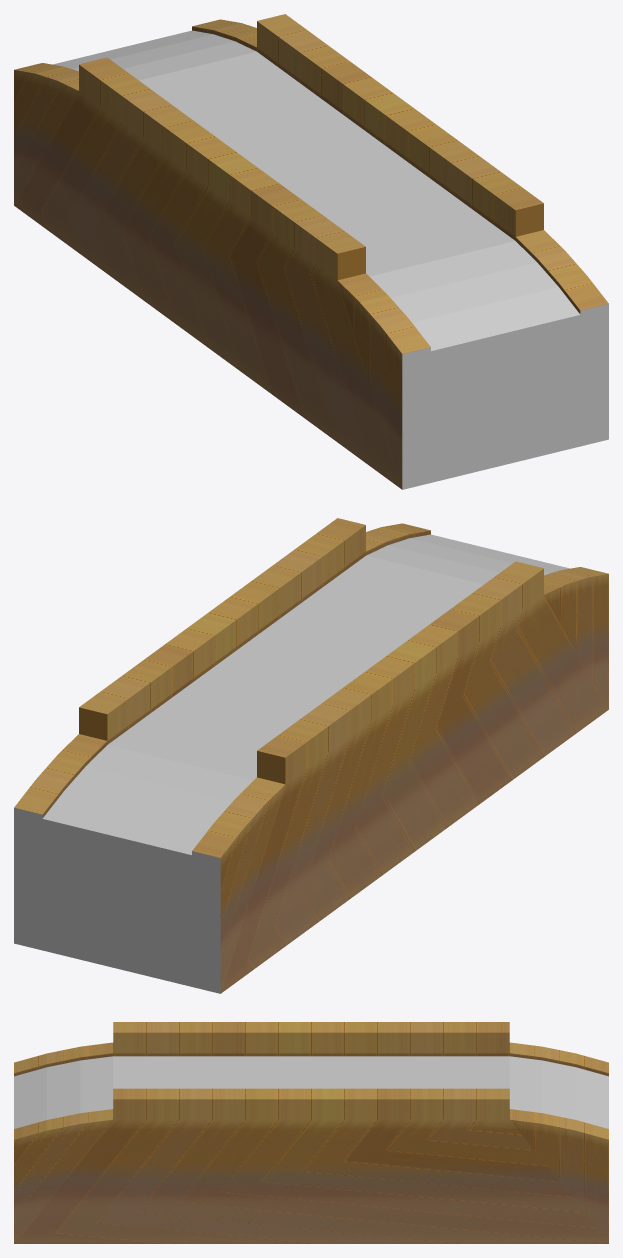
File: Bridge02_c01_col.FBX
The picture shows the model from 3 angles, top to bottom: view 1: azimuth 30°, elevation 25°; view 2: azimuth 150°, elevation 25°; view 3: azimuth 270°, elevation 25°; orthographic projection. The views are drawn at different scales.
Parts seen in each view (by area): view 1: Bridge02_c01_col; view 2: Bridge02_c01_col; view 3: Bridge02_c01_col.
Part boxes in pixels (bbox=[...]): Bridge02_c01_col: bbox=[14, 14, 608, 489]; Bridge02_c01_col: bbox=[14, 518, 608, 993]; Bridge02_c01_col: bbox=[14, 1022, 608, 1243].
Bounding box in the file's own units: 985 × 860 × 3209.
